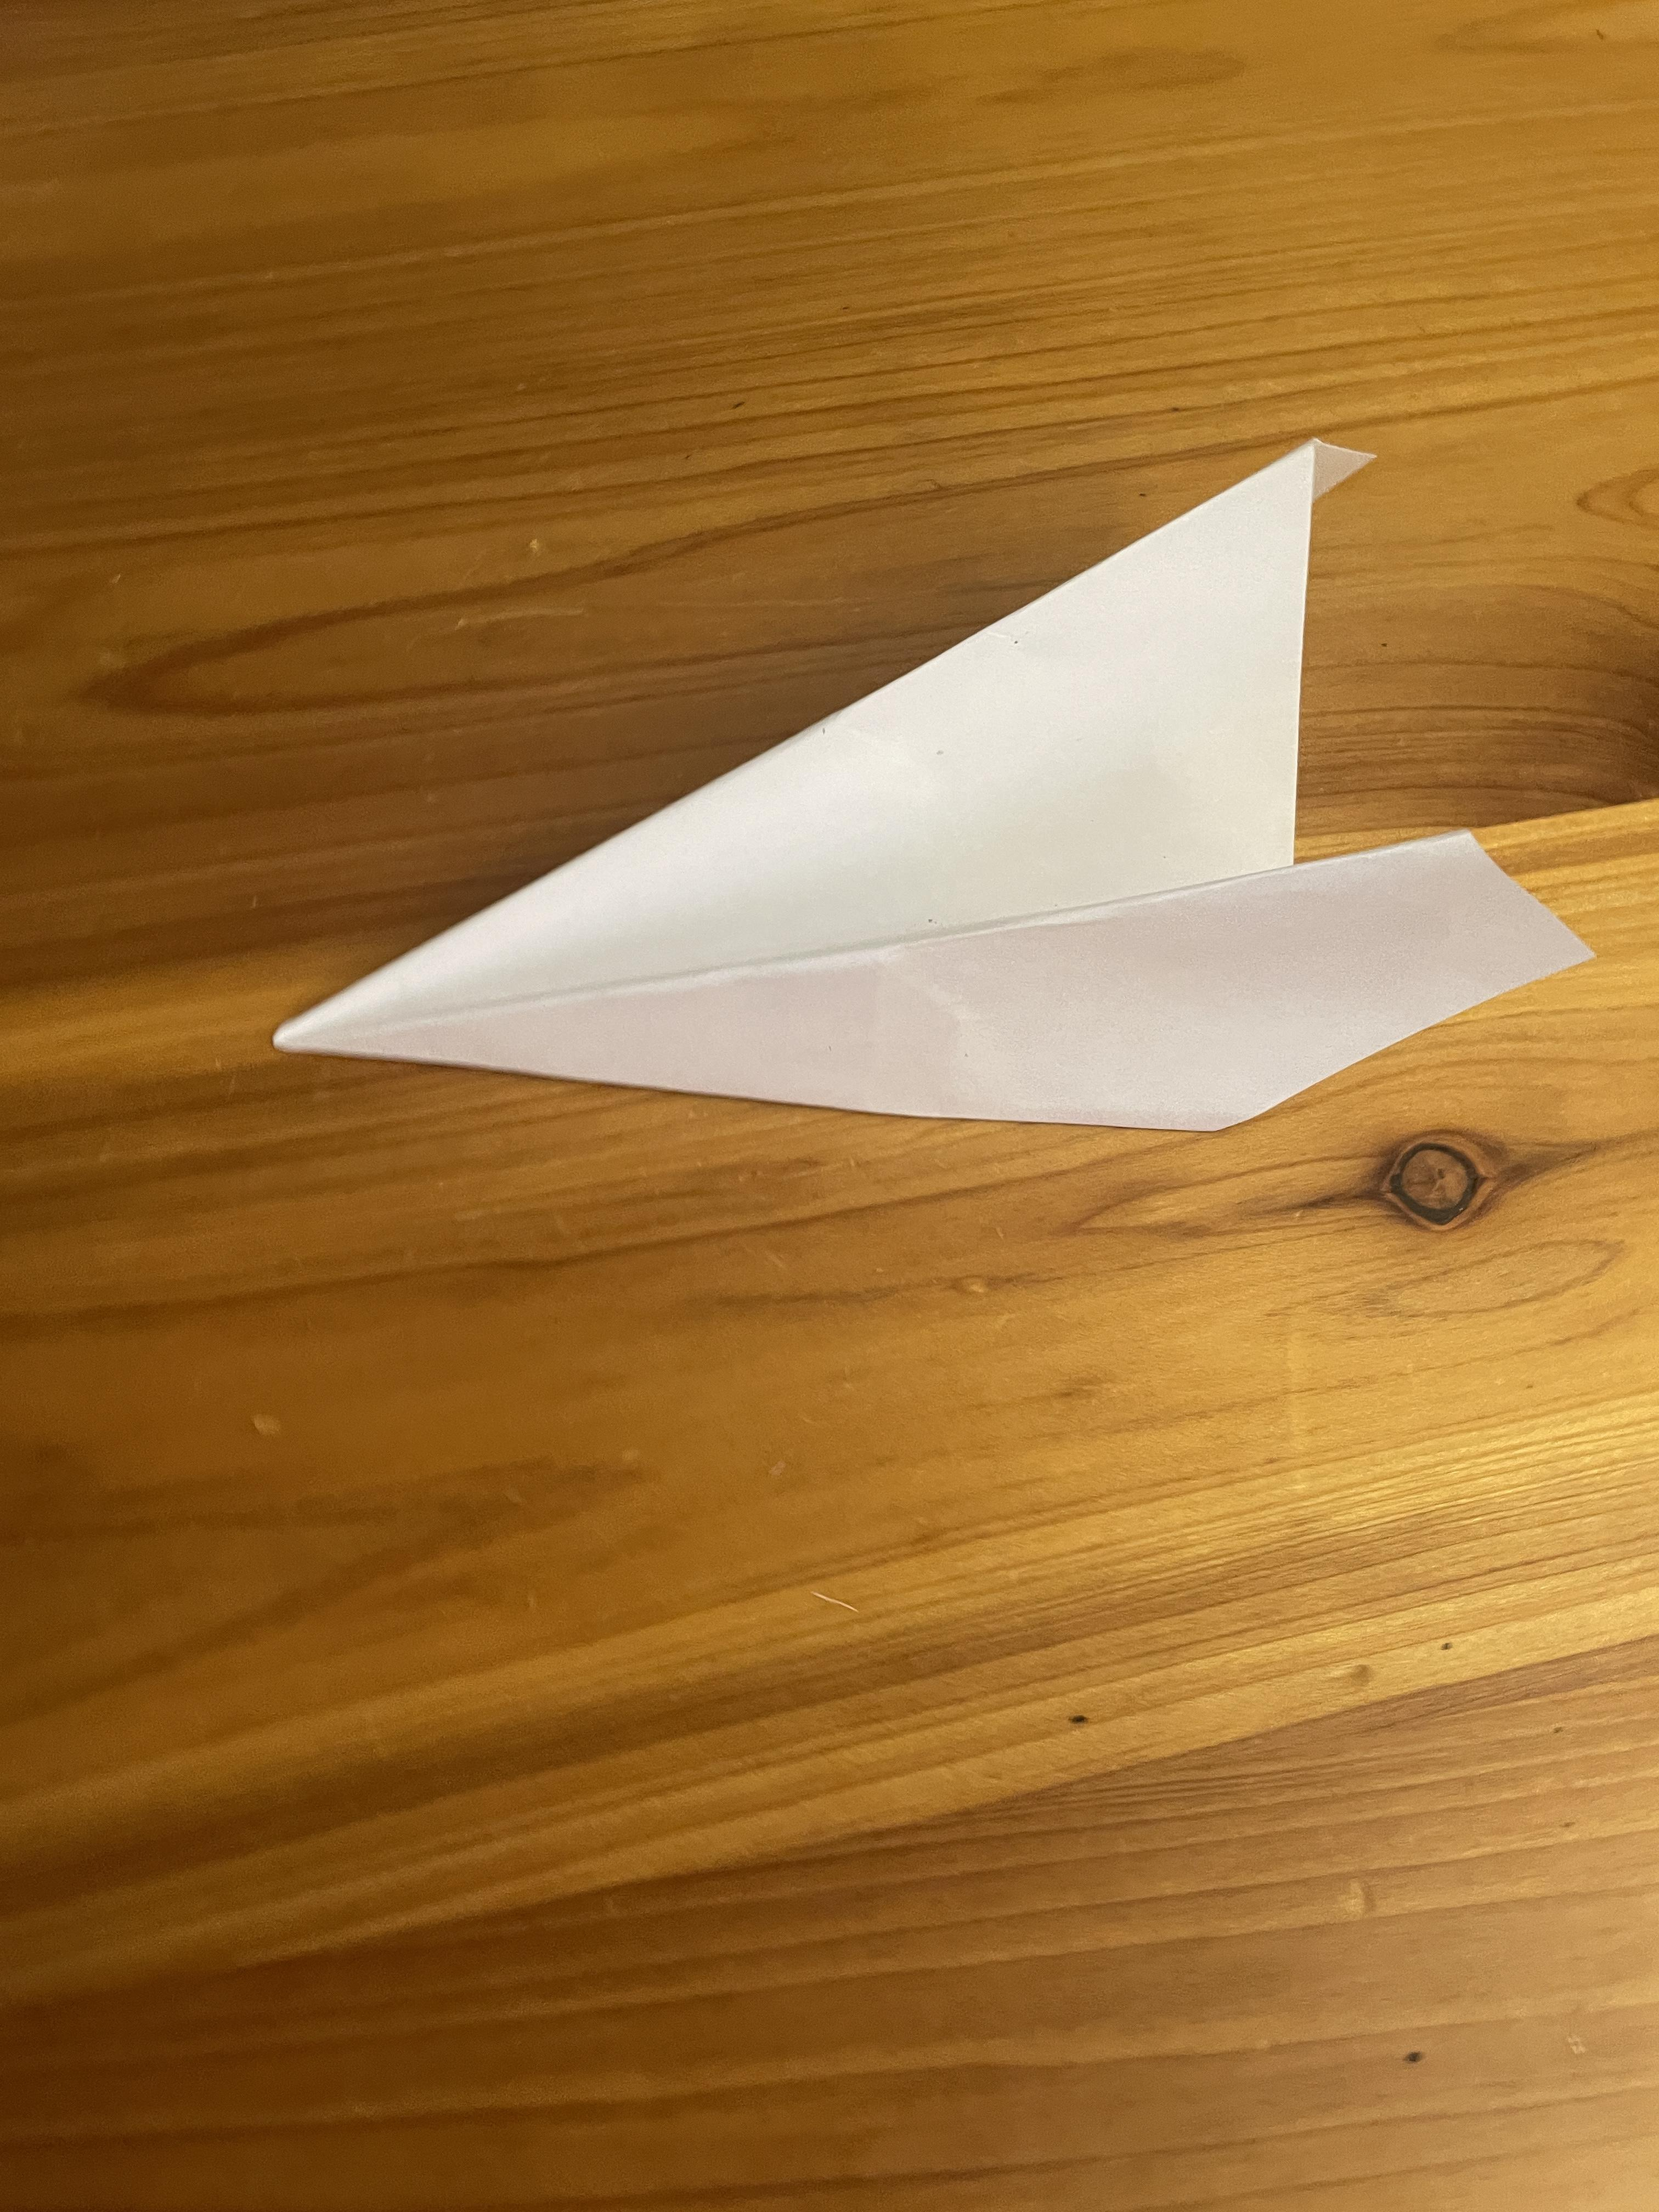shape_3: (159, 331, 1605, 1480)
